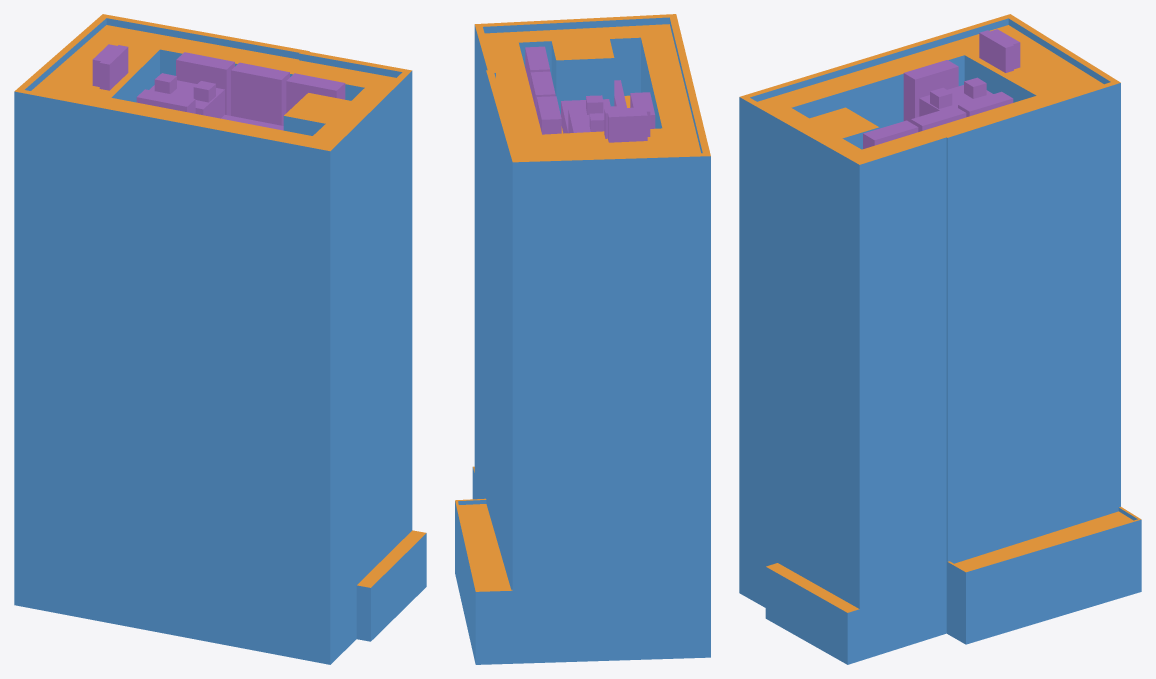
File: shinjuku-mitsui-no2-southeast-semantic.glb
The picture shows the model from 3 angles, left to right: view 1: azimuth 30°, elevation 25°; view 2: azimuth 150°, elevation 25°; view 3: azimuth 270°, elevation 25°; orthographic projection. The views are drawn at different scales.
Parts seen in each view (by area): view 1: base-poly-4f7a8af7-de38-4f66-b947-091094f48250, base-poly-41d9f760-7633-42d7-b266-e70a0cab7342, base-poly-498341f8-9f05-4620-9125-95e9792914b1, base-poly-f915b166-3b5e-43f0-b6ee-a71786a93f44, base-poly-6ba1b4fd-eb52-4e66-baca-692e136916cd, base-fme-gen-7607814d-7cd4-4f05-99d3-5beabc5983e7, base-poly-5d38a921-39f6-4272-96cc-eff12776a498, base-poly-37e15c87-7f13-47eb-8ce2-b513c00e3716, base-poly-e0420d55-75c2-40ce-8585-e11480a2204d, base-poly-b824faf9-97c6-4cb6-bbbf-a92f9c897a89, base-fme-gen-e2414ea3-c050-45bf-a749-cc3db8a07065, base-fme-gen-821cf3f9-3b97-4fee-95f1-cfbac6bd4698 (+6 smaller); view 2: base-poly-8f6b1851-5649-4a31-9acd-ad50a79a2422, base-poly-8acbeef3-2647-45e4-9116-8a96c1fd851a, base-poly-498341f8-9f05-4620-9125-95e9792914b1, base-poly-e4fcd0b8-3915-4c3e-a8e9-8ce734546d3d, base-poly-f915b166-3b5e-43f0-b6ee-a71786a93f44, base-poly-b28106b4-e88d-4895-b02f-3446250e4307, base-poly-4421ca29-12b9-4cac-96c3-e0a85e705bf6, base-poly-18515a0b-18e2-4198-b722-383670561f31, base-poly-06e9e0d1-0fc0-4be2-9a68-c0bdb22e2852, base-poly-2a41b152-55cb-4410-8c70-79c26ef99060, base-poly-37e15c87-7f13-47eb-8ce2-b513c00e3716, base-poly-4f4b881d-7751-4b1c-bca5-ef22492846d0 (+5 smaller); view 3: base-poly-8acbeef3-2647-45e4-9116-8a96c1fd851a, base-poly-41d9f760-7633-42d7-b266-e70a0cab7342, base-poly-e4fcd0b8-3915-4c3e-a8e9-8ce734546d3d, base-poly-18515a0b-18e2-4198-b722-383670561f31, base-poly-498341f8-9f05-4620-9125-95e9792914b1, base-poly-6ba1b4fd-eb52-4e66-baca-692e136916cd, base-poly-408f2a03-7cf0-4233-bbf9-61597cfd9629, base-poly-3519d115-dc78-4c6e-af6f-8ff0772a50f2, base-poly-b28106b4-e88d-4895-b02f-3446250e4307, base-poly-f915b166-3b5e-43f0-b6ee-a71786a93f44, base-poly-fc9b39d0-6083-4c60-9566-86fdaa73bc6e, base-poly-e0420d55-75c2-40ce-8585-e11480a2204d (+7 smaller).
Part boxes in pixels (x1,y1,x2,y2): base-poly-4f7a8af7-de38-4f66-b947-091094f48250: (14, 91, 330, 664); base-poly-41d9f760-7633-42d7-b266-e70a0cab7342: (330, 71, 412, 664); base-poly-498341f8-9f05-4620-9125-95e9792914b1: (31, 25, 395, 146); base-poly-f915b166-3b5e-43f0-b6ee-a71786a93f44: (160, 37, 377, 87); base-poly-6ba1b4fd-eb52-4e66-baca-692e136916cd: (371, 533, 426, 640); base-fme-gen-7607814d-7cd4-4f05-99d3-5beabc5983e7: (231, 70, 281, 125); base-poly-5d38a921-39f6-4272-96cc-eff12776a498: (106, 18, 299, 59); base-poly-37e15c87-7f13-47eb-8ce2-b513c00e3716: (14, 90, 329, 150); base-poly-e0420d55-75c2-40ce-8585-e11480a2204d: (111, 50, 159, 102); base-poly-b824faf9-97c6-4cb6-bbbf-a92f9c897a89: (357, 530, 425, 587); base-fme-gen-e2414ea3-c050-45bf-a749-cc3db8a07065: (231, 70, 267, 122); base-fme-gen-821cf3f9-3b97-4fee-95f1-cfbac6bd4698: (176, 60, 226, 114); base-poly-8f6b1851-5649-4a31-9acd-ad50a79a2422: (475, 156, 710, 664); base-poly-8acbeef3-2647-45e4-9116-8a96c1fd851a: (486, 71, 512, 589); base-poly-498341f8-9f05-4620-9125-95e9792914b1: (484, 24, 700, 158); base-poly-e4fcd0b8-3915-4c3e-a8e9-8ce734546d3d: (472, 25, 487, 499); base-poly-f915b166-3b5e-43f0-b6ee-a71786a93f44: (488, 42, 541, 135); base-poly-b28106b4-e88d-4895-b02f-3446250e4307: (459, 504, 510, 590); base-poly-4421ca29-12b9-4cac-96c3-e0a85e705bf6: (556, 58, 614, 114); base-poly-18515a0b-18e2-4198-b722-383670561f31: (455, 501, 475, 663); base-poly-06e9e0d1-0fc0-4be2-9a68-c0bdb22e2852: (610, 37, 640, 95); base-poly-2a41b152-55cb-4410-8c70-79c26ef99060: (483, 17, 669, 33); base-poly-37e15c87-7f13-47eb-8ce2-b513c00e3716: (669, 14, 710, 155); base-poly-4f4b881d-7751-4b1c-bca5-ef22492846d0: (475, 14, 675, 26); base-poly-8acbeef3-2647-45e4-9116-8a96c1fd851a: (947, 83, 1120, 563); base-poly-41d9f760-7633-42d7-b266-e70a0cab7342: (739, 97, 859, 608); base-poly-e4fcd0b8-3915-4c3e-a8e9-8ce734546d3d: (847, 137, 946, 664); base-poly-18515a0b-18e2-4198-b722-383670561f31: (966, 519, 1141, 644); base-poly-498341f8-9f05-4620-9125-95e9792914b1: (757, 25, 1103, 160); base-poly-6ba1b4fd-eb52-4e66-baca-692e136916cd: (765, 567, 847, 664); base-poly-408f2a03-7cf0-4233-bbf9-61597cfd9629: (791, 55, 964, 128); base-poly-3519d115-dc78-4c6e-af6f-8ff0772a50f2: (946, 137, 965, 644); base-poly-b28106b4-e88d-4895-b02f-3446250e4307: (954, 511, 1133, 570); base-poly-f915b166-3b5e-43f0-b6ee-a71786a93f44: (862, 95, 1047, 156); base-poly-fc9b39d0-6083-4c60-9566-86fdaa73bc6e: (750, 18, 1008, 101); base-poly-e0420d55-75c2-40ce-8585-e11480a2204d: (964, 55, 1036, 102).
Size of the model in its own units: 50.72 by 78.69 by 55.74.
